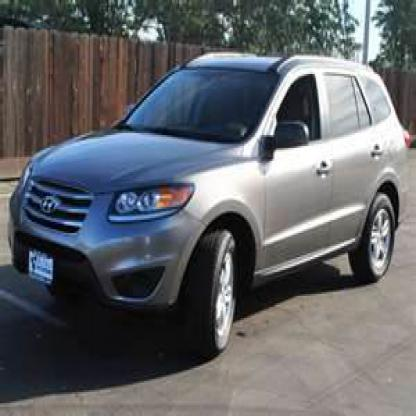Vehicle: (4, 22, 415, 392)
